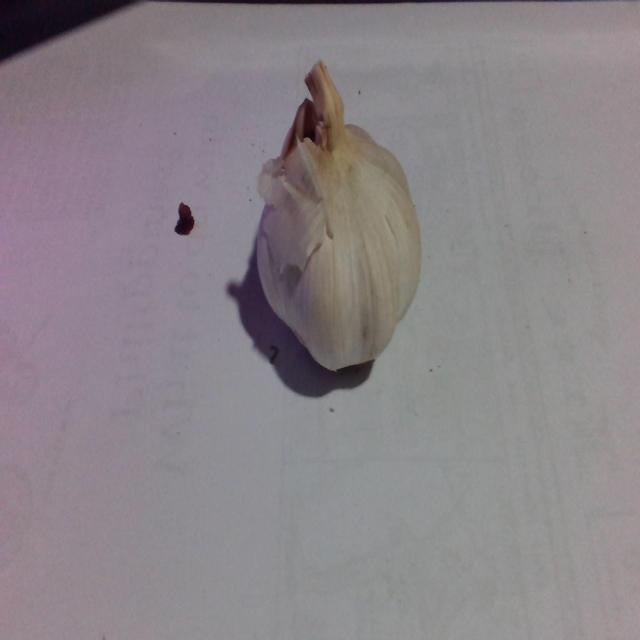garlic: (251, 116, 425, 378)
